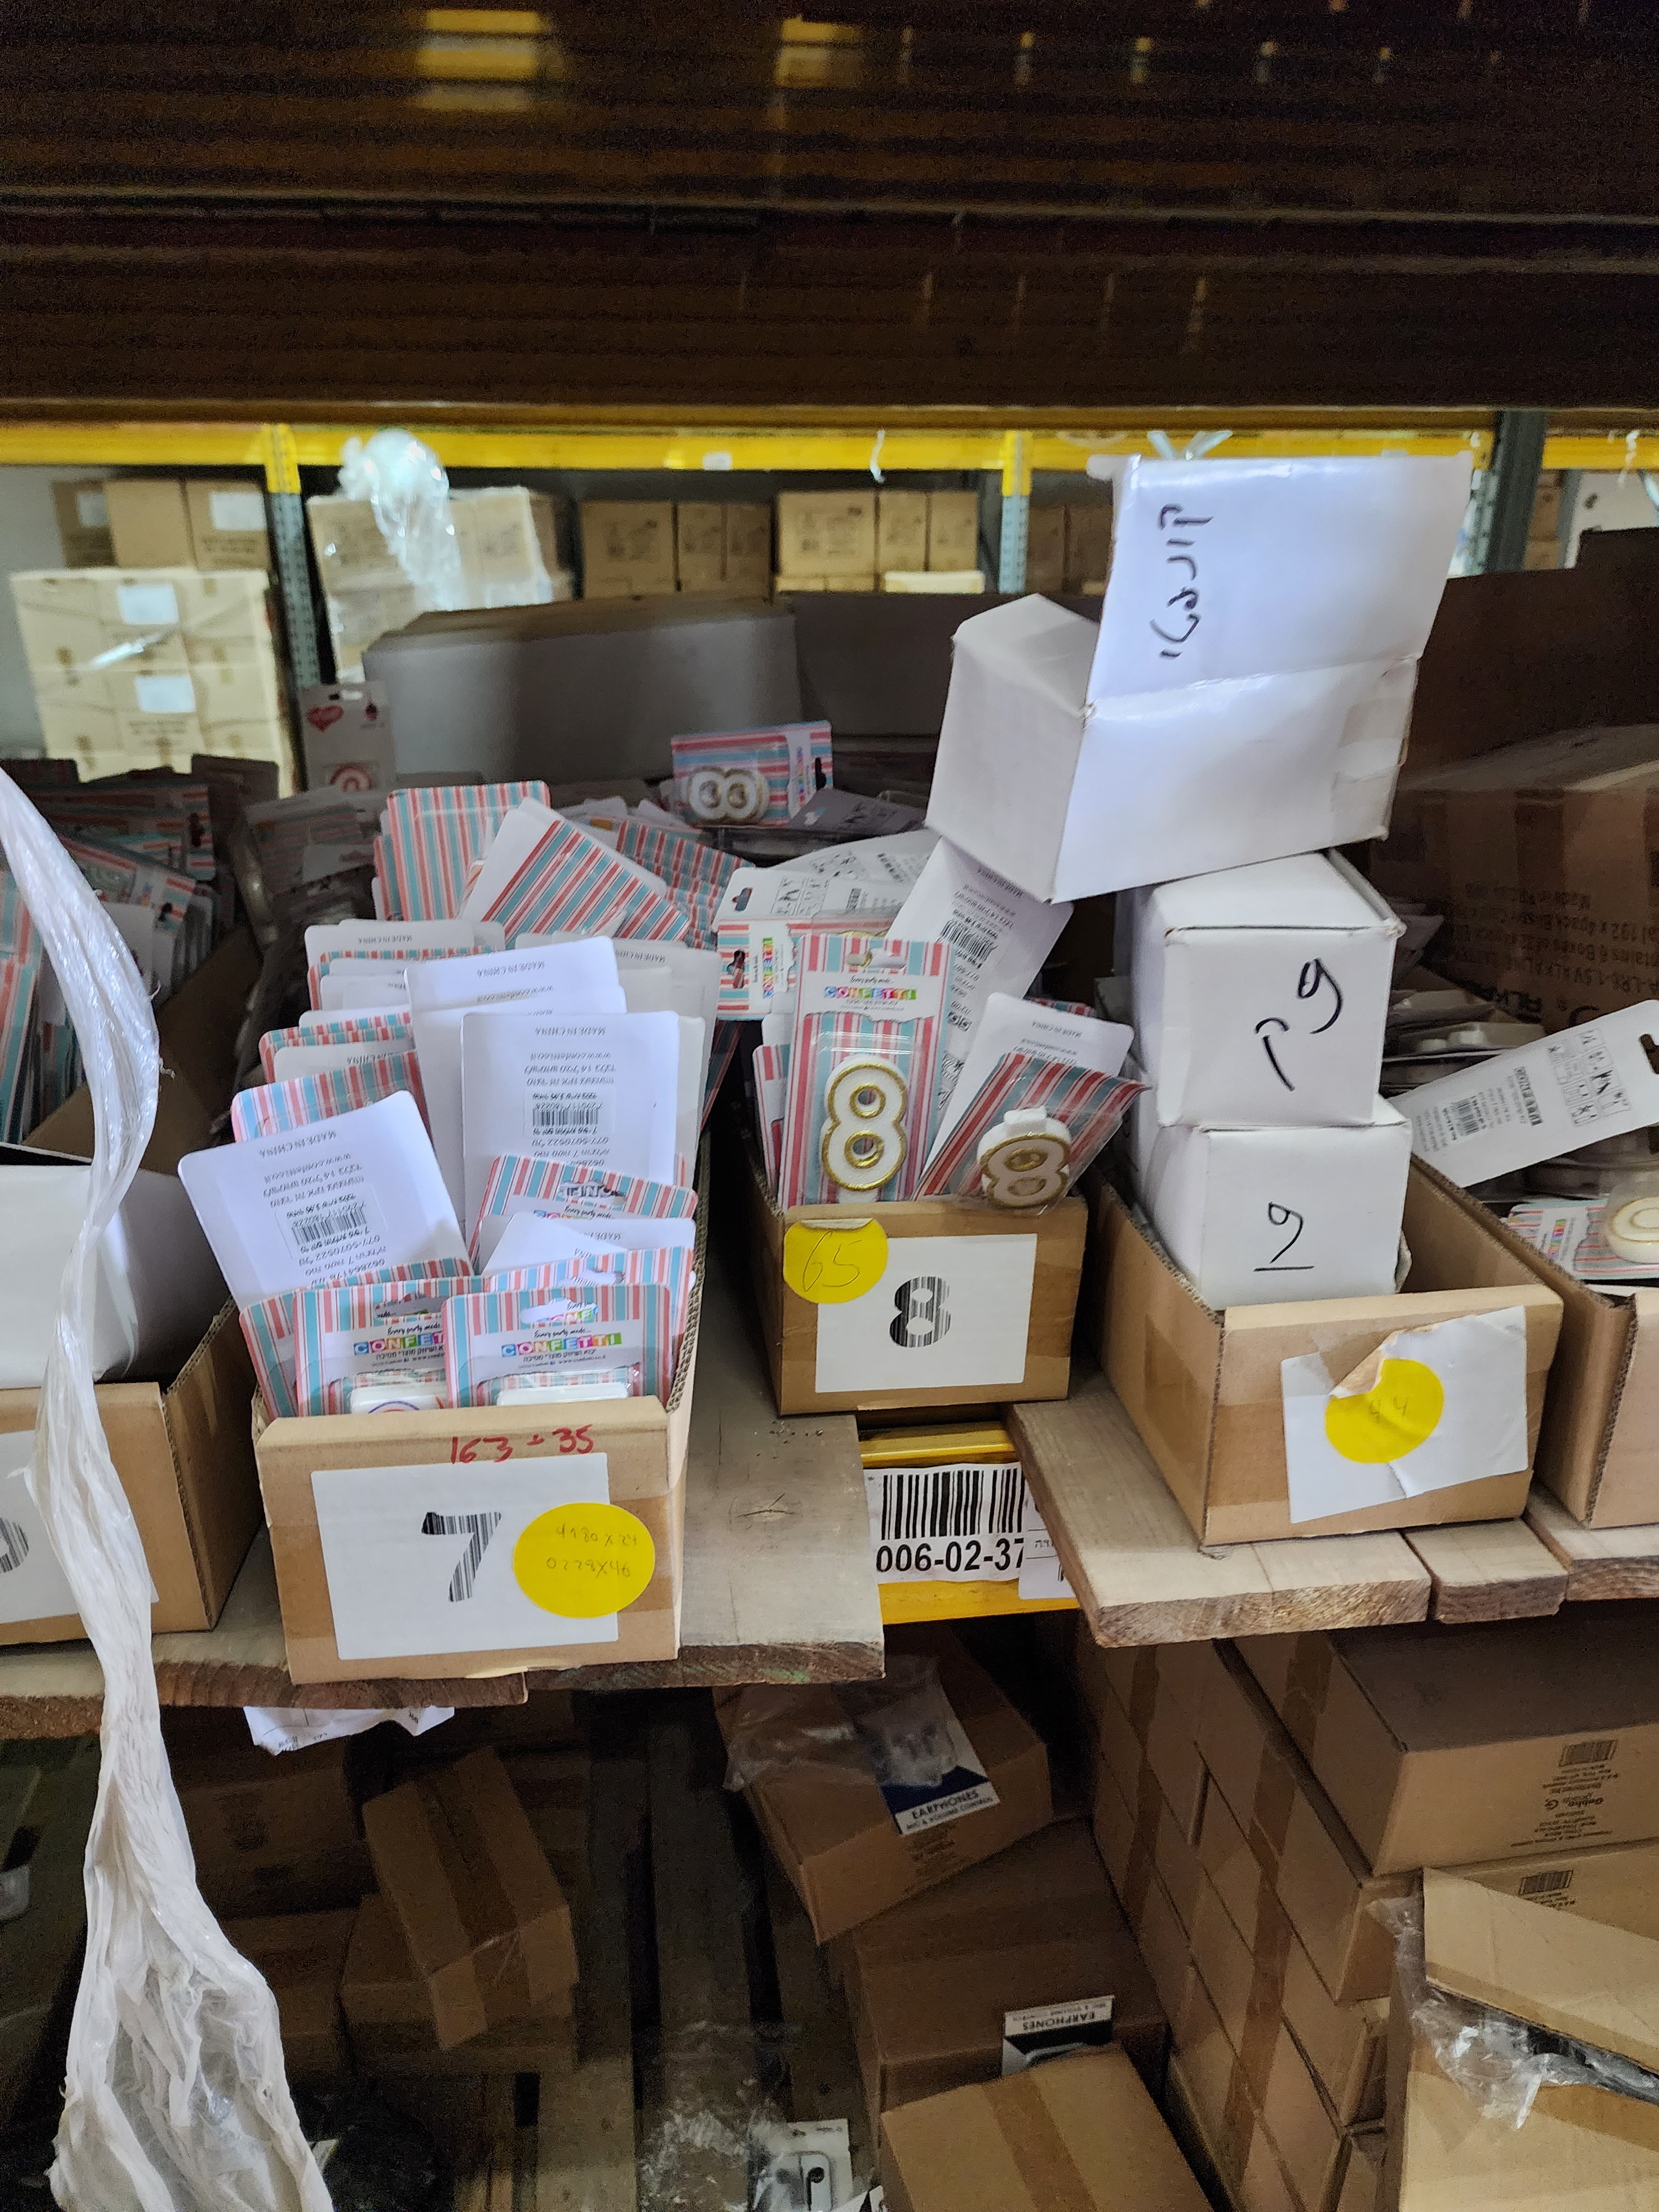box: (1098, 1162, 1586, 1554), (197, 1399, 767, 1724), (1117, 900, 1432, 1141), (1121, 1076, 1425, 1324)
